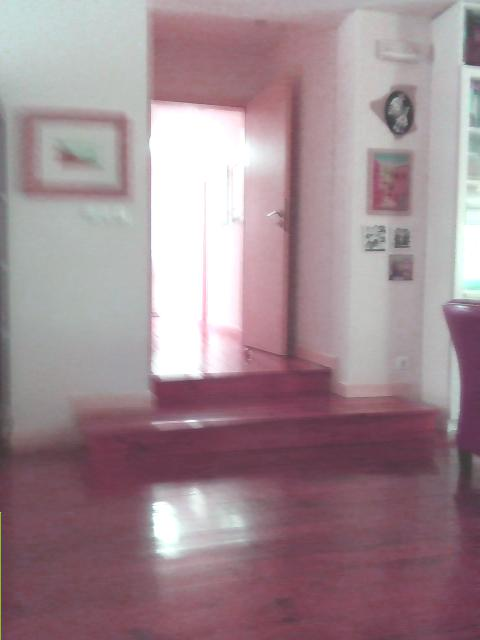open_door: (144, 92, 248, 352)
